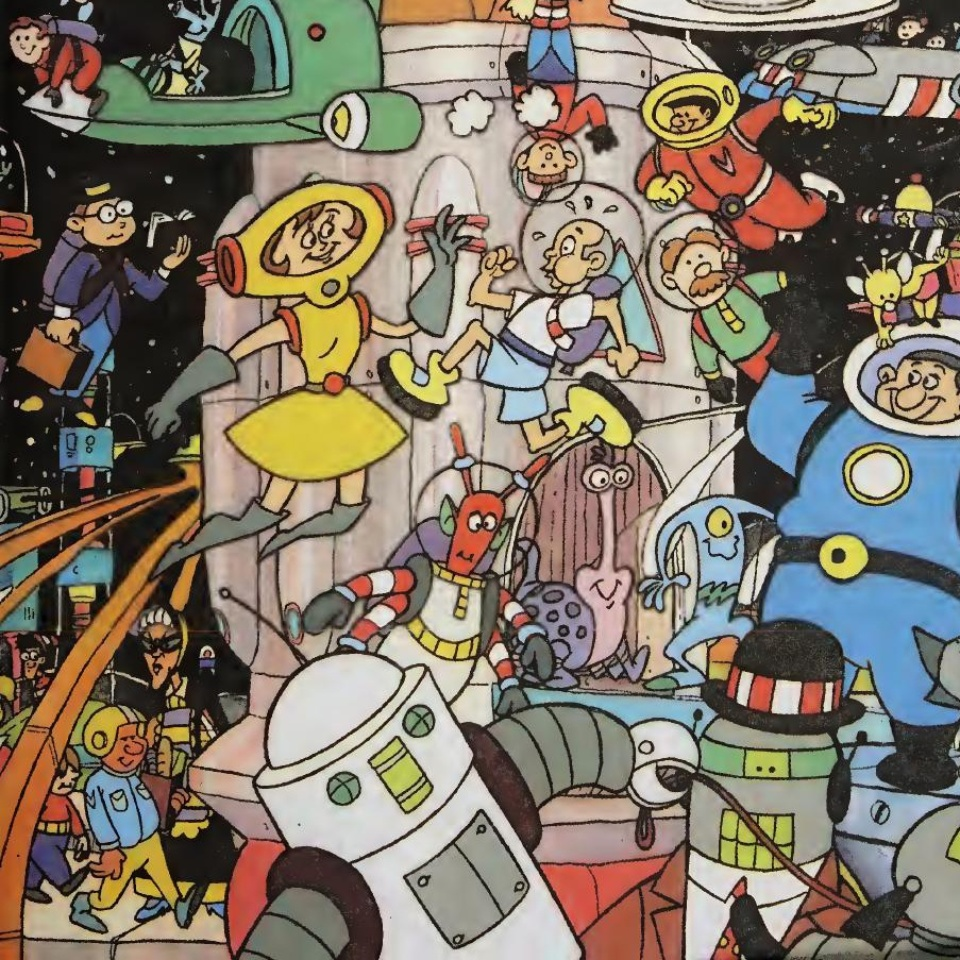waldo: (13, 629, 59, 700)
